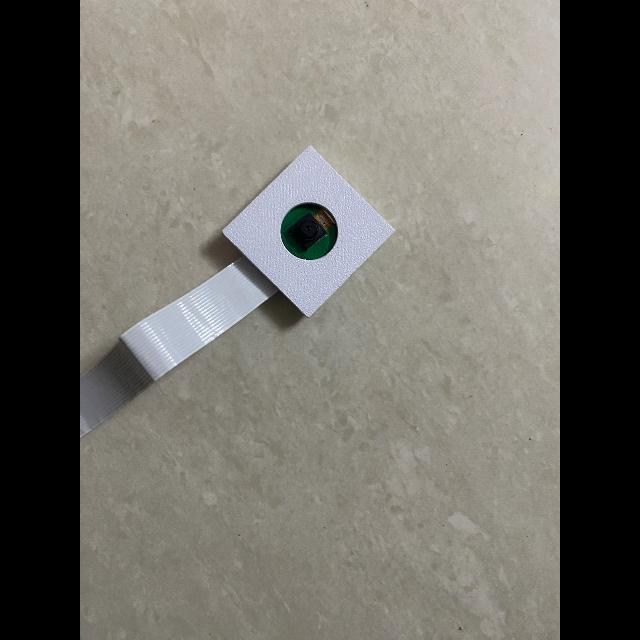RASPBERY PI CAM ENCLOSURE: (222, 144, 394, 318)
